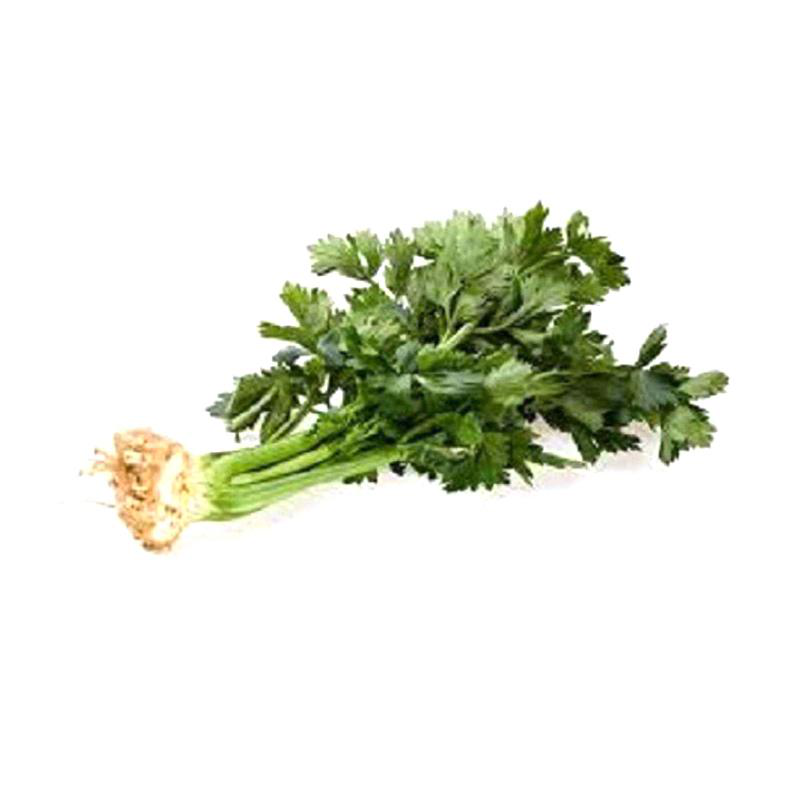Seledri: (188, 190, 745, 604)
